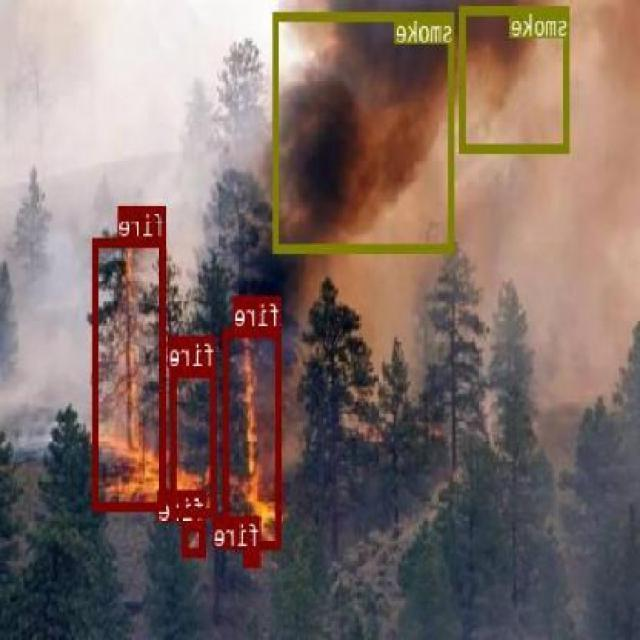Fire: (93, 236, 167, 509), (224, 328, 282, 546), (172, 367, 217, 515), (185, 520, 208, 554), (244, 548, 262, 564)
Smoke: (274, 11, 456, 252), (462, 3, 570, 152)
